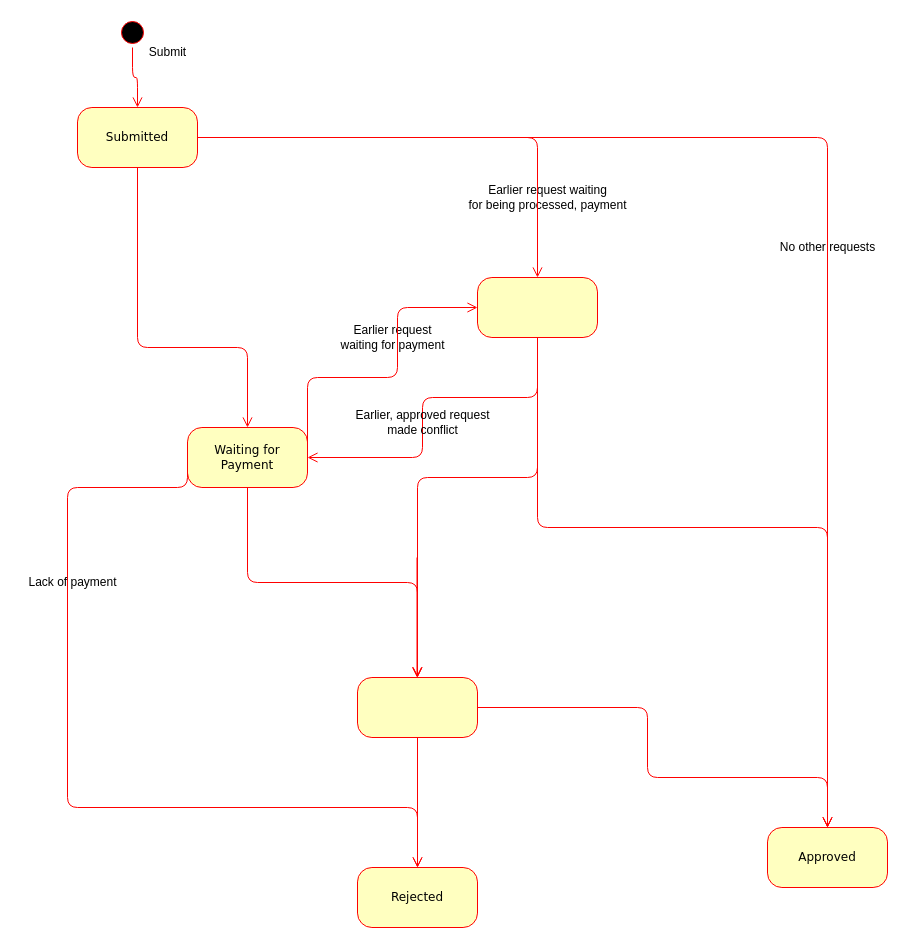
This 905x945 diagram has some shape labels left out. Each missing label, with the centre of its shape:
"Blocked" belongs at point (537, 307).
"Waiting for Approval" belongs at point (417, 707).
